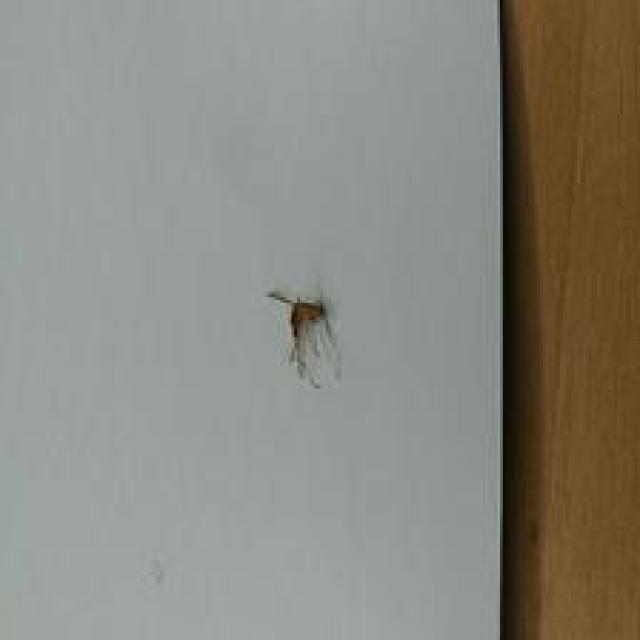Culex: (264, 287, 342, 390)
